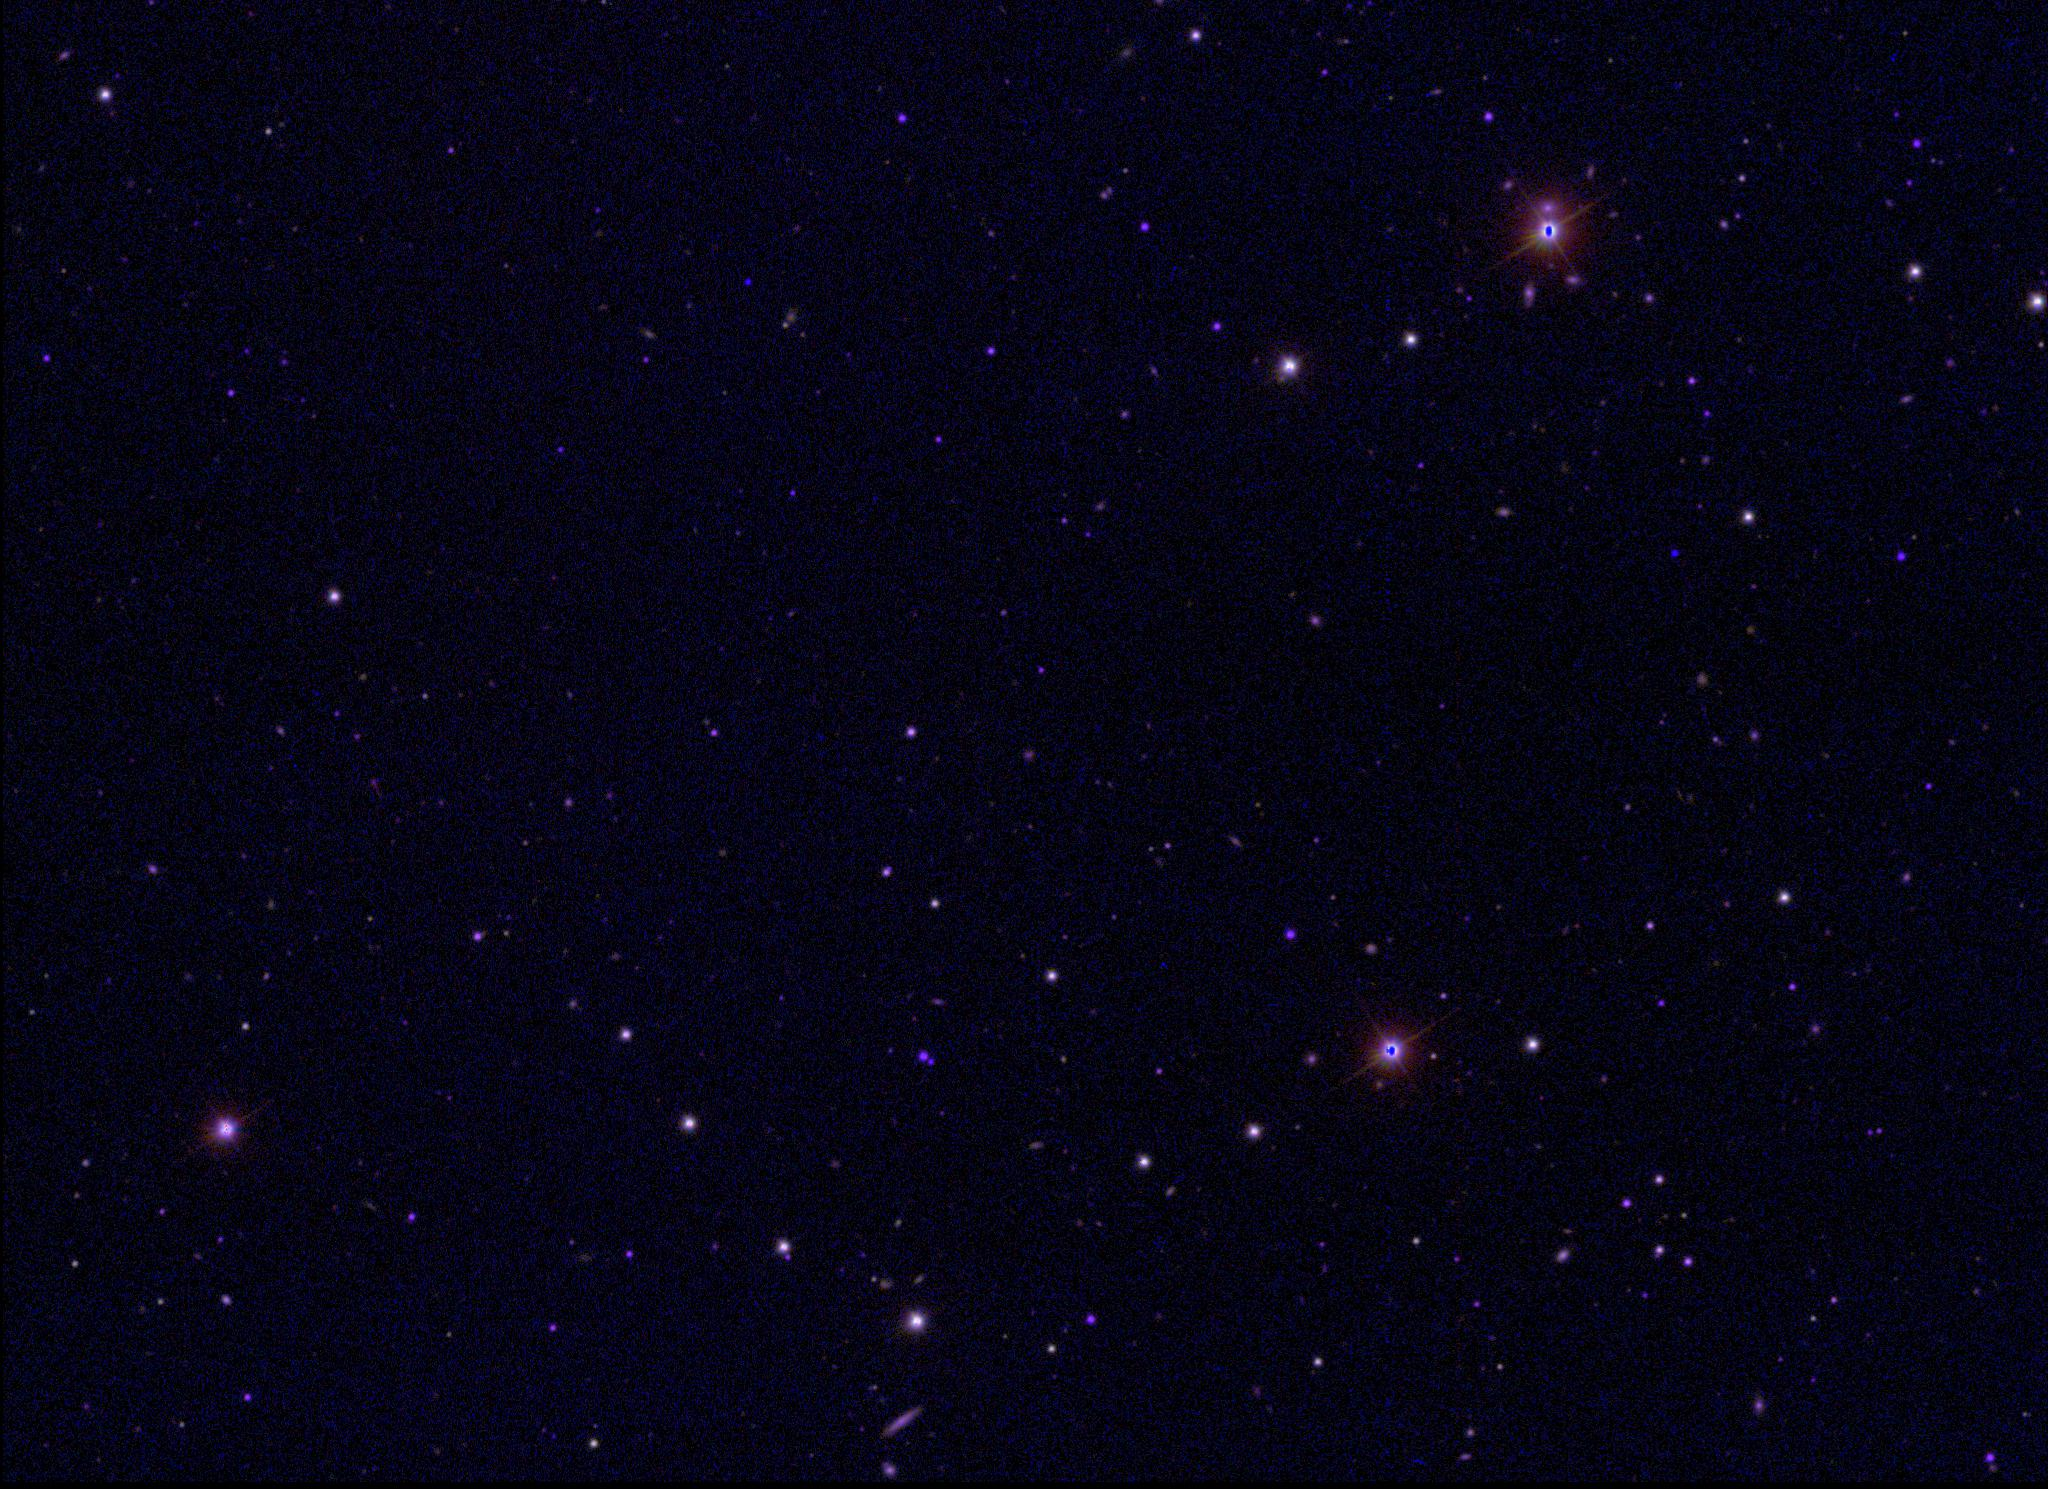L: (1666, 546, 1681, 560)
